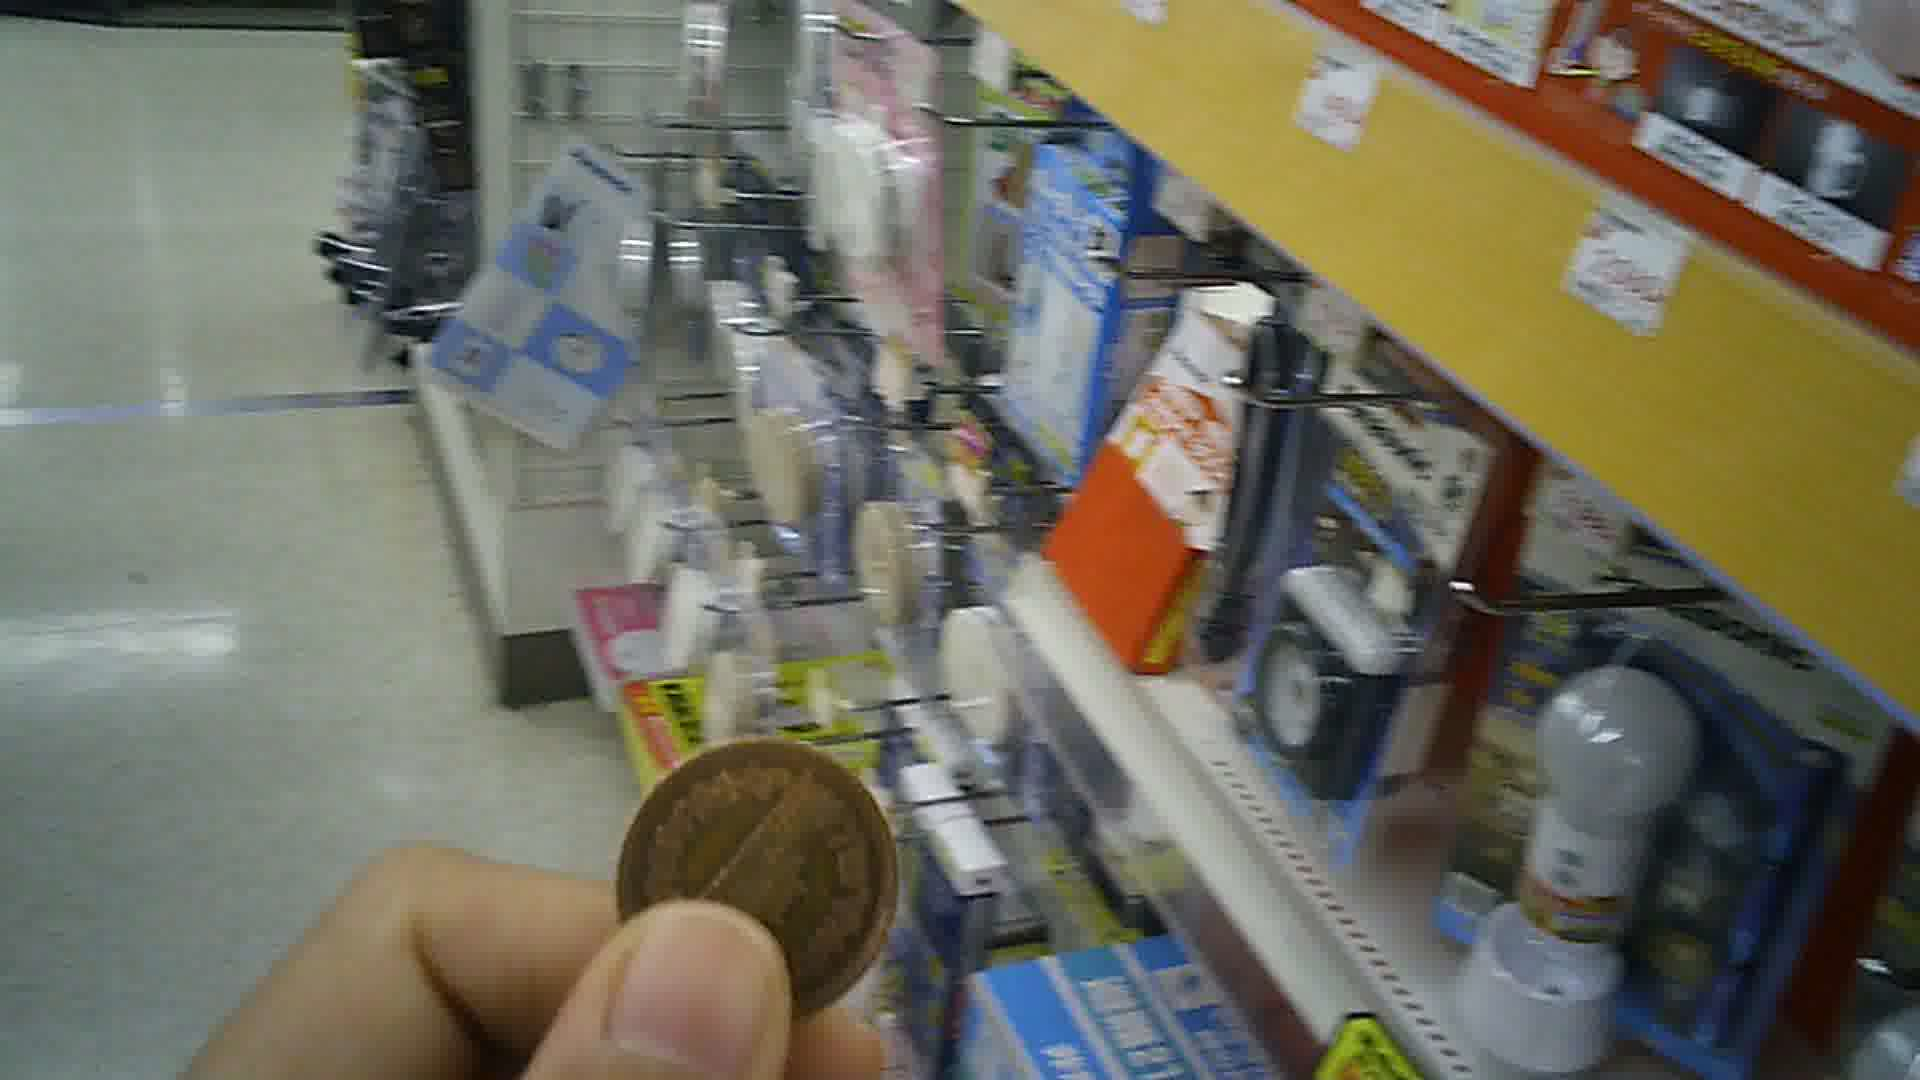10 Yen: (607, 738, 906, 1033)
